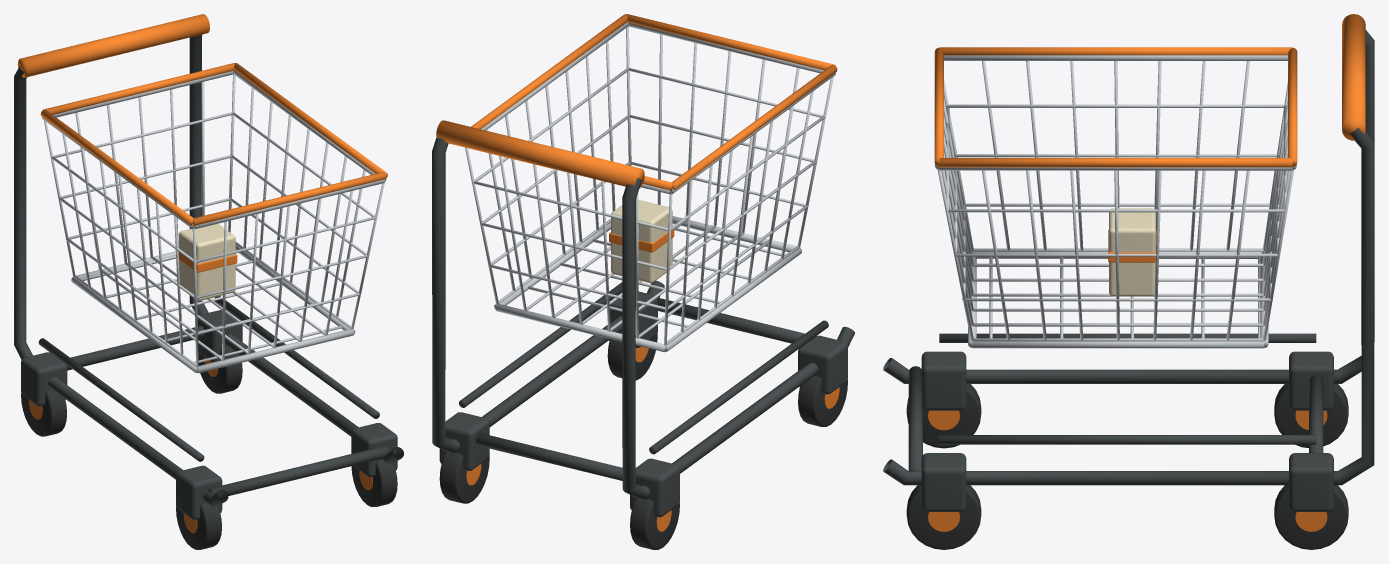
The model's file is interactive-shopping-cart.glb.
3 renders of one model, left to right at view 1: azimuth 30°, elevation 25°; view 2: azimuth 150°, elevation 25°; view 3: azimuth 270°, elevation 25°, orthographic. The views are drawn at different scales.
Parts seen in each view (by area): view 1: FrameSide, FrameSide.001, OrangeHandle, SampleItem, FrameCross, Fork_RearLeft, UnderBasketRail, Fork_FrontLeft, OrangeRim.002, OrangeRim.003, OrangeRim, UnderBasketRail.001 (+40 smaller); view 2: FrameSide, FrameSide.001, OrangeHandle, SampleItem, FrameCross.001, Fork_FrontLeft, UnderBasketRail, Fork_RearLeft, OrangeRim.002, OrangeRim, Fork_RearRight, FrameCross (+43 smaller); view 3: FrameSide.001, FrameSide, UnderBasketRail.001, OrangeRim.001, SampleItem, OrangeRim, OrangeHandle, Fork_FrontRight, Fork_FrontLeft, Fork_RearRight, Rubber_FrontRight, Rubber_RearRight (+39 smaller).
Part boxes in pixels (x1,y1,x2,y2): FrameSide: (14,65,228,506); FrameSide.001: (189,34,403,464); OrangeHandle: (17,14,209,77); SampleItem: (179,223,235,300); FrameCross: (208,446,388,498); Fork_RearLeft: (21,352,67,406); UnderBasketRail: (38,338,204,461); Fork_FrontLeft: (176,465,222,519); OrangeRim.002: (193,172,386,226); OrangeRim.003: (42,63,235,114); OrangeRim: (40,110,193,225); UnderBasketRail.001: (214,296,379,418); FrameSide: (622,178,854,500); FrameSide.001: (432,138,664,453); OrangeHandle: (436,120,644,188); SampleItem: (611,200,672,283); FrameCross.001: (476,433,622,480); Fork_FrontLeft: (798,335,847,394); UnderBasketRail: (649,320,828,454); Fork_RearLeft: (630,458,679,517); OrangeRim.002: (626,14,835,70); OrangeRim: (671,65,837,190); Fork_RearRight: (439,412,489,470); FrameCross: (657,297,804,343); FrameSide.001: (883,127,1374,485); FrameSide: (883,30,1374,383); UnderBasketRail.001: (939,435,1316,444); OrangeRim.001: (939,158,1292,167); SampleItem: (1109,208,1155,296); OrangeRim: (939,47,1292,55); OrangeHandle: (1342,14,1365,140); Fork_FrontRight: (921,453,966,511); Fork_FrontLeft: (921,351,966,410); Fork_RearRight: (1289,453,1333,511); Rubber_FrontRight: (906,485,981,549); Rubber_RearRight: (1274,485,1348,549).
Size of the model in its own units: 0.6 by 1 by 1.04.
